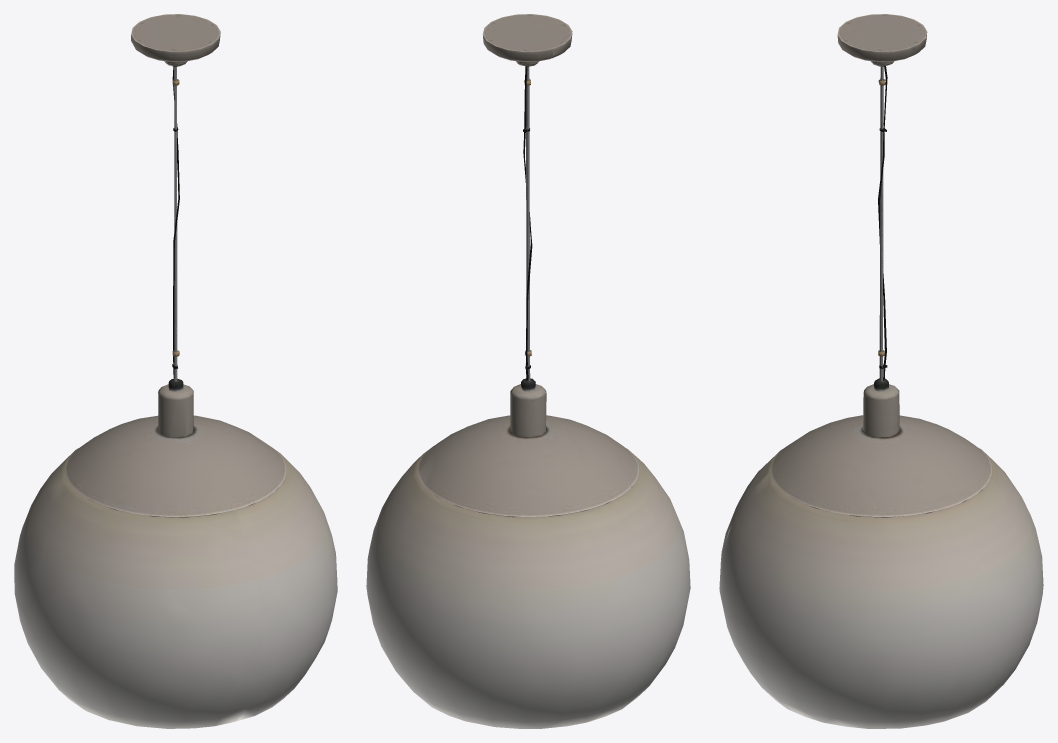
The model's file is modern_ceiling_lamp_01.glb.
3 views of the same model, side by side, from view 1: azimuth 30°, elevation 25°; view 2: azimuth 150°, elevation 25°; view 3: azimuth 270°, elevation 25° (orthographic).
Visible parts, largest first — view 1: modern_ceiling_lamp_01; view 2: modern_ceiling_lamp_01; view 3: modern_ceiling_lamp_01.
Part boxes in pixels (<box>): modern_ceiling_lamp_01: <box>14,14,337,728</box>; modern_ceiling_lamp_01: <box>366,14,690,728</box>; modern_ceiling_lamp_01: <box>719,14,1043,728</box>.
Size of the model in its own units: 0.1587 by 0.35 by 0.1587.
Materials: 3 (3 with a texture image).
